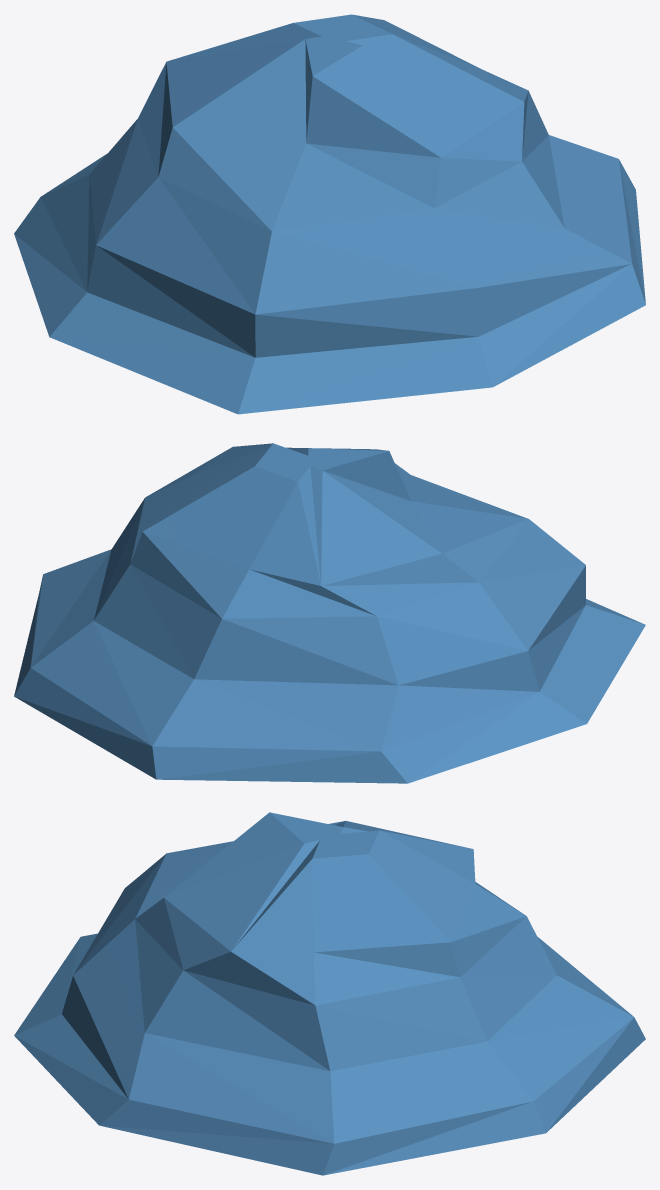
File: harvest_a.gltf
3 views of the same model, one above another, from view 1: azimuth 30°, elevation 25°; view 2: azimuth 150°, elevation 25°; view 3: azimuth 270°, elevation 25° (orthographic). The views are drawn at different scales.
Visible parts, largest first — view 1: harvest_a001; view 2: harvest_a001; view 3: harvest_a001.
Boxes of the visible parts, left/top/right/bottom form: harvest_a001: left=14, top=14, right=645, bottom=414; harvest_a001: left=14, top=443, right=645, bottom=783; harvest_a001: left=14, top=812, right=645, bottom=1175.
Bounding box in the file's own units: 3 × 1.07 × 3.
1 material, 1 textured.
